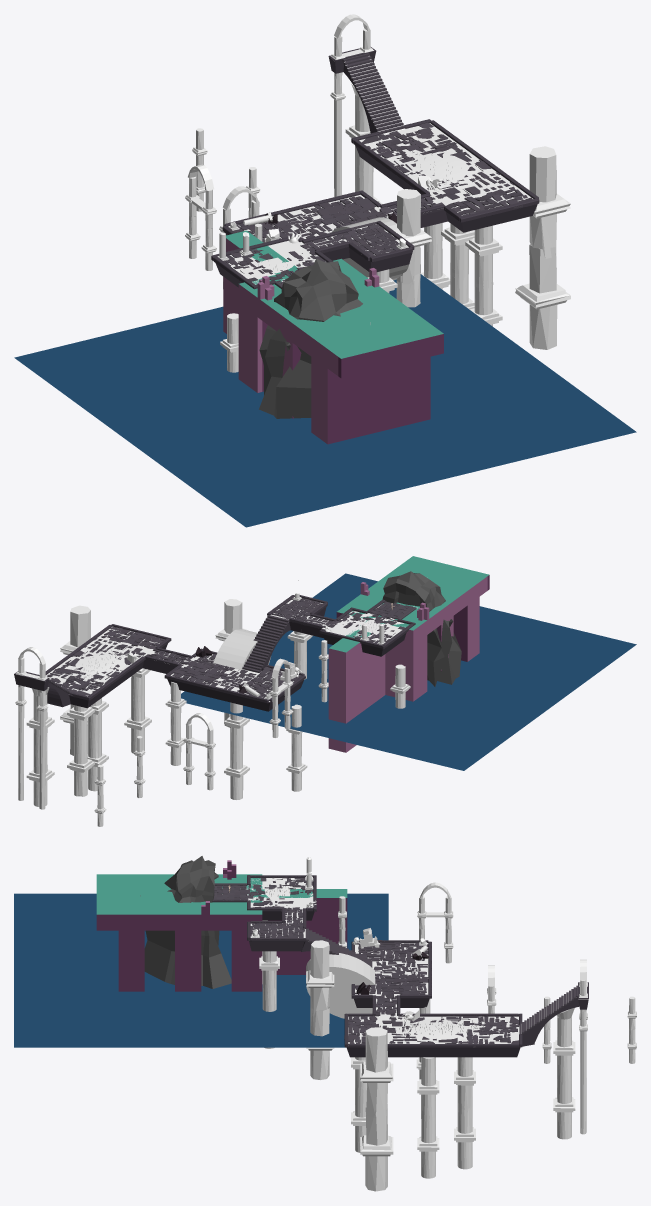
3 views of the same model, one above another, from view 1: azimuth 30°, elevation 25°; view 2: azimuth 150°, elevation 25°; view 3: azimuth 270°, elevation 25° (orthographic). The views are drawn at different scales.
Parts seen in each view (by area): view 1: Plane, Cave-Exit, BackPillar.007, Layout, BackPillar.006, Stairs.002, BottomPillar.007, Ground.002, BottomPillar.009, Tiles.013, Tiles.015, Tiles.011 (+11 smaller); view 2: Plane, Cave-Exit, Layout, Cube.1744, BottomPillar.010, BottomPillar.004, BottomPillar.008, Stairs.001, BackPillar.007, StairBoolean.001, BottomPillar.007, BottomPillar.009 (+30 smaller); view 3: Plane, Cave-Exit, BackPillar.007, Layout, BackPillar.006, BottomPillar.008, StairBoolean.001, BottomPillar.009, BottomPillar.010, Cube.1748, Bottom.007, Ground.002 (+18 smaller).
Part boxes in pixels (x1,y1,x2,y2): Plane: (14,274,636,527); Cave-Exit: (259,258,362,418); BackPillar.007: (515,146,570,349); Layout: (228,56,532,284); BackPillar.006: (396,189,431,307); Stairs.002: (342,53,405,134); BottomPillar.007: (465,225,502,326); Ground.002: (396,146,477,189); BottomPillar.009: (441,223,474,309); Tiles.013: (362,122,457,159); Tiles.015: (384,142,514,199); Tiles.011: (311,196,387,229); Plane: (181,573,636,770); Cave-Exit: (382,571,461,686); Layout: (45,600,417,701); Cube.1744: (342,653,385,752); BottomPillar.010: (67,705,94,796); BottomPillar.004: (224,702,249,799); BottomPillar.008: (26,687,54,806); Stairs.001: (242,615,289,672); BackPillar.007: (60,605,90,755); StairBoolean.001: (213,629,270,669); BottomPillar.007: (124,668,151,753); BottomPillar.009: (87,698,108,791); Plane: (14,893,388,1047); Cave-Exit: (144,856,231,988); BackPillar.007: (360,1027,393,1191); Layout: (222,878,588,1043); BackPillar.006: (306,940,334,1079); BottomPillar.008: (553,1008,575,1139); StairBoolean.001: (306,953,375,1018); BottomPillar.009: (417,1057,439,1178); BottomPillar.010: (454,1057,475,1169); Cube.1748: (268,914,347,974); Bottom.007: (346,1046,520,1057); Ground.002: (391,1018,485,1042).
Bounding box in the file's own units: 231 × 107 × 286.
